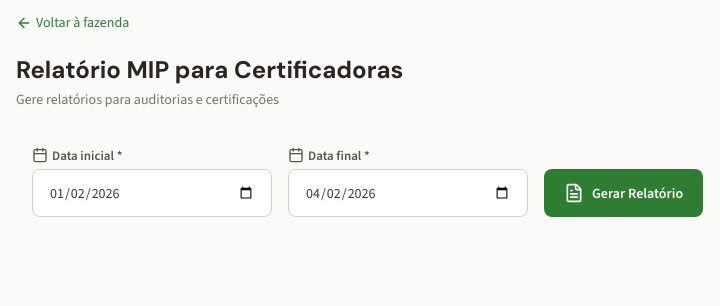
MonitoringReportPage › should show error message on failure
The width and height of the screenshot is (720, 306).
Click the button "Gerar Relatório".
click(624, 193)  # box top-left (544, 169), bottom-right (703, 217)
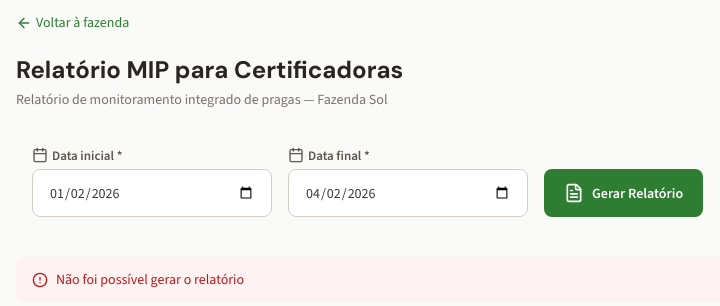
Expected: the message reads "Não foi possível gerar o relatório", top-left (56, 270), bottom-right (244, 289)
